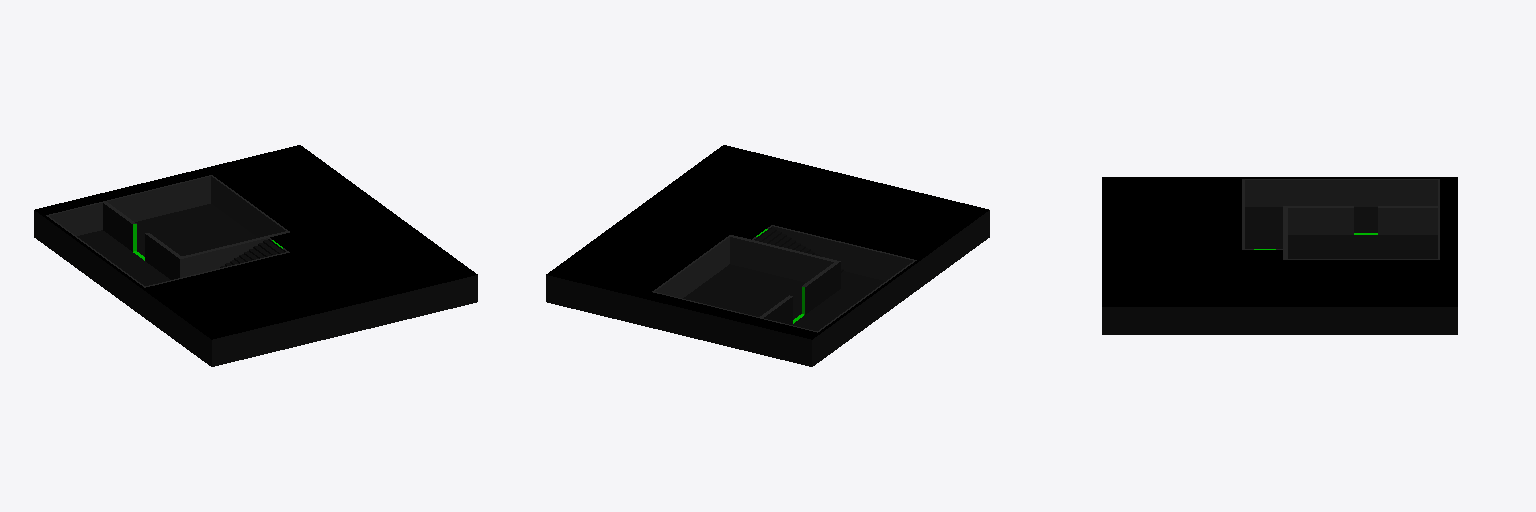
File: edgefield_basement.obj
3 views of the same model, side by side, from view 1: azimuth 30°, elevation 25°; view 2: azimuth 150°, elevation 25°; view 3: azimuth 270°, elevation 25° (orthographic).
Visible parts, largest first — view 1: map_house_edgefield_layer_bottom_outline; view 2: map_house_edgefield_layer_bottom_outline; view 3: map_house_edgefield_layer_bottom_outline.
Boxes of the visible parts, <box> form: map_house_edgefield_layer_bottom_outline: <box>34,145,477,366</box>; map_house_edgefield_layer_bottom_outline: <box>546,145,989,366</box>; map_house_edgefield_layer_bottom_outline: <box>1102,177,1457,334</box>.
Bounding box in the file's own units: 0.8653 × 0.0852 × 1.